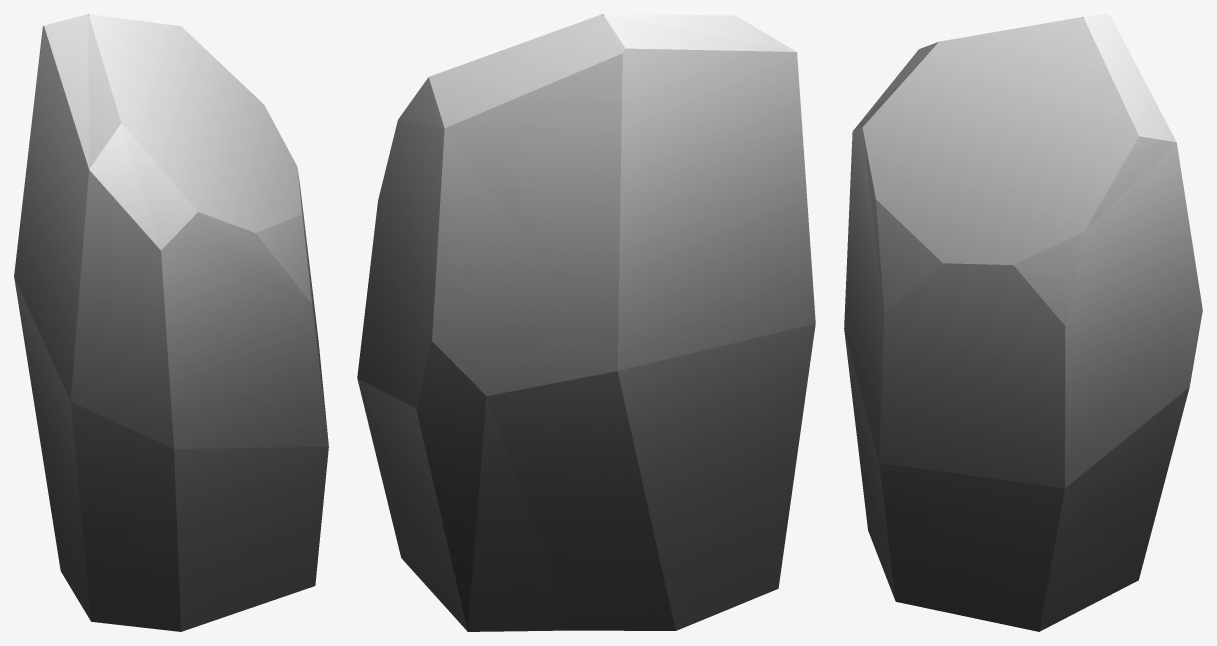
Rendered from CrystalShard_B.fbx.
The picture shows the model from 3 angles, left to right: view 1: azimuth 30°, elevation 25°; view 2: azimuth 150°, elevation 25°; view 3: azimuth 270°, elevation 25°; orthographic projection. The views are drawn at different scales.
Parts seen in each view (by area): view 1: CrystalShard_B; view 2: CrystalShard_B; view 3: CrystalShard_B.
Boxes of the visible parts, x1,y1,x2,y2 form: CrystalShard_B: (14,14,328,631); CrystalShard_B: (357,14,815,631); CrystalShard_B: (844,14,1202,631).
Size of the model in its own units: 66.19 by 105 by 65.36.
1 material, 1 textured.
